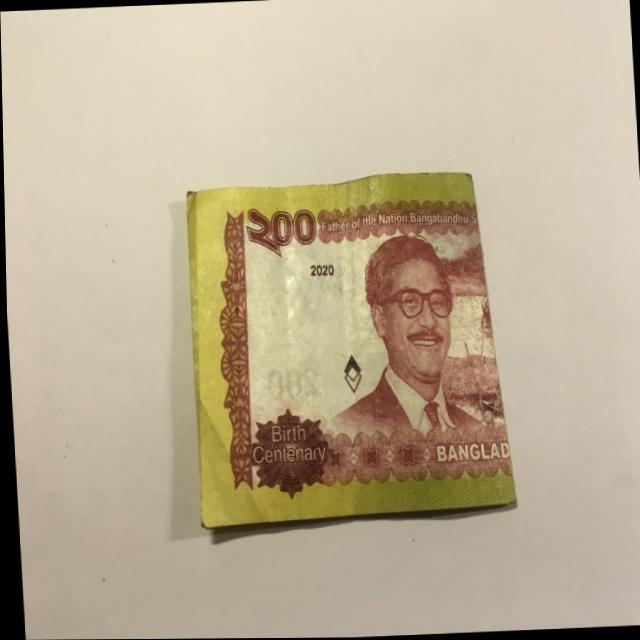Taka: (177, 151, 521, 536)
